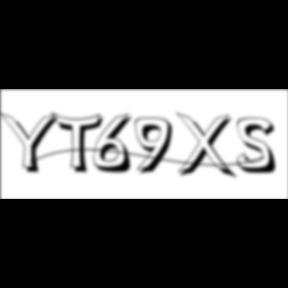6: (94, 112, 138, 176)
9: (134, 117, 180, 177)
S: (237, 117, 283, 176)
T: (51, 112, 109, 176)
X: (176, 112, 240, 182)
Y: (0, 110, 66, 176)
